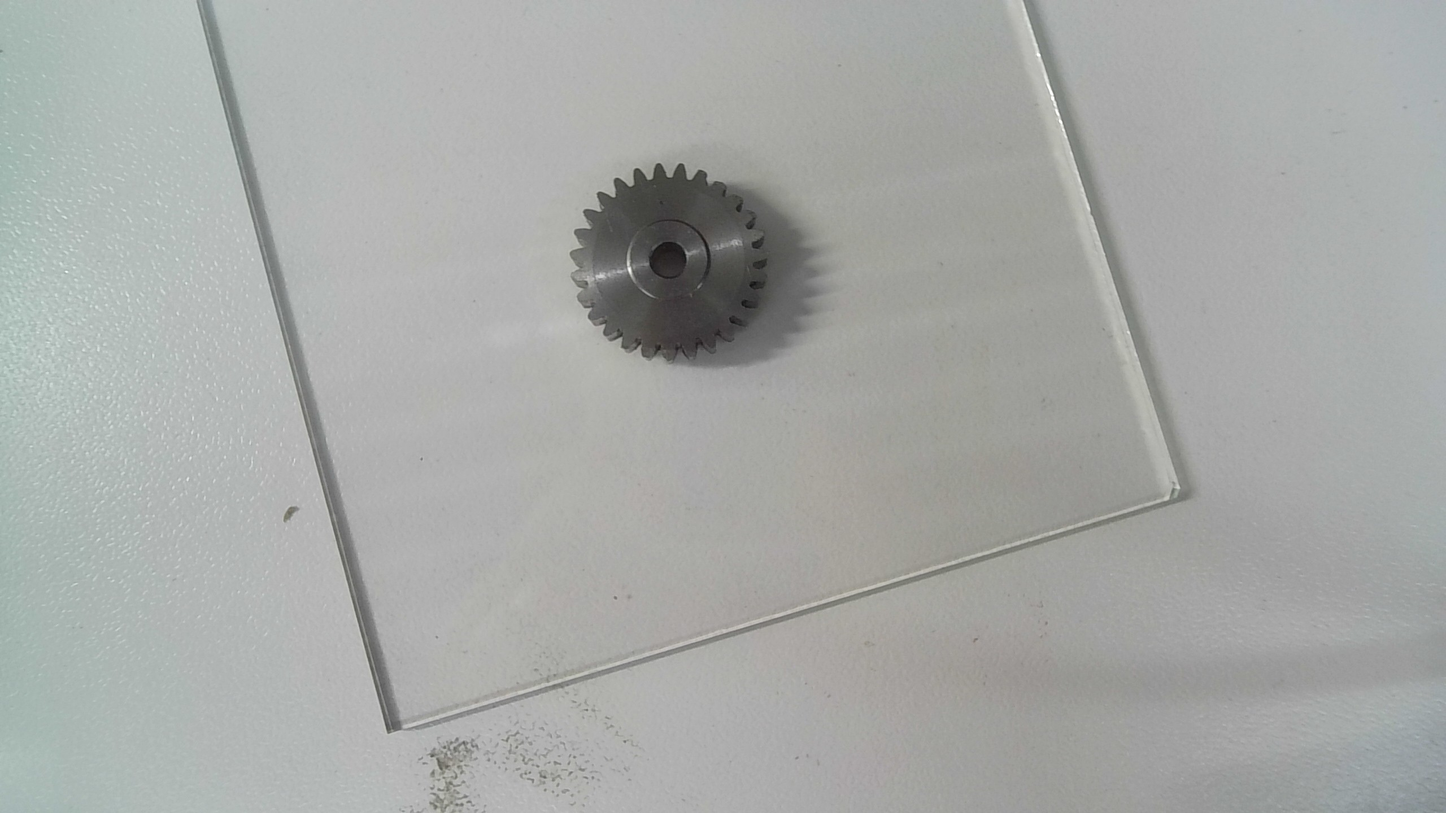gear: (565, 160, 772, 369)
